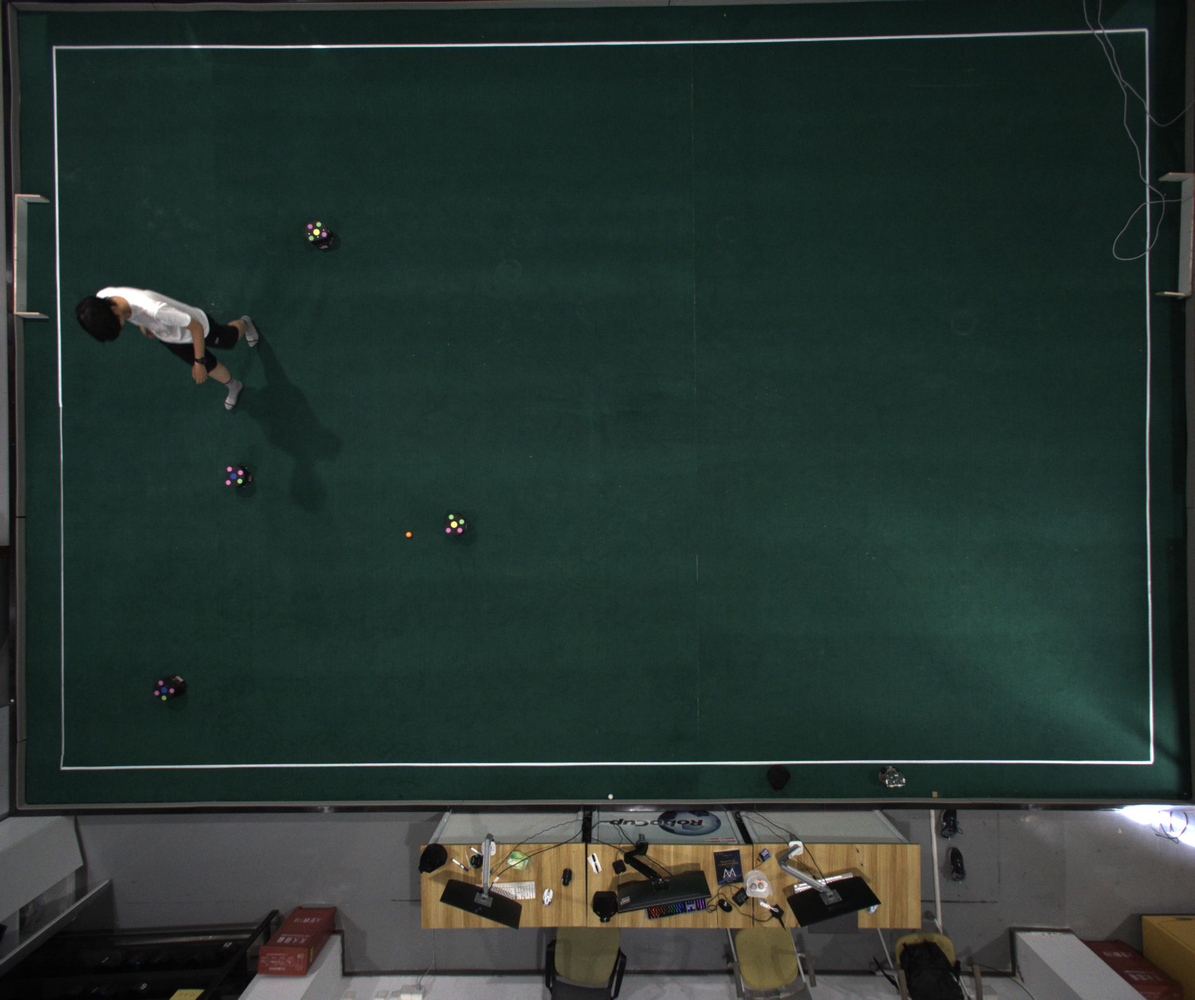ball: (405, 531, 412, 538)
blue_bot: (154, 679, 176, 702), (224, 466, 245, 487)
yellow_bot: (305, 220, 329, 242), (444, 513, 466, 535)
